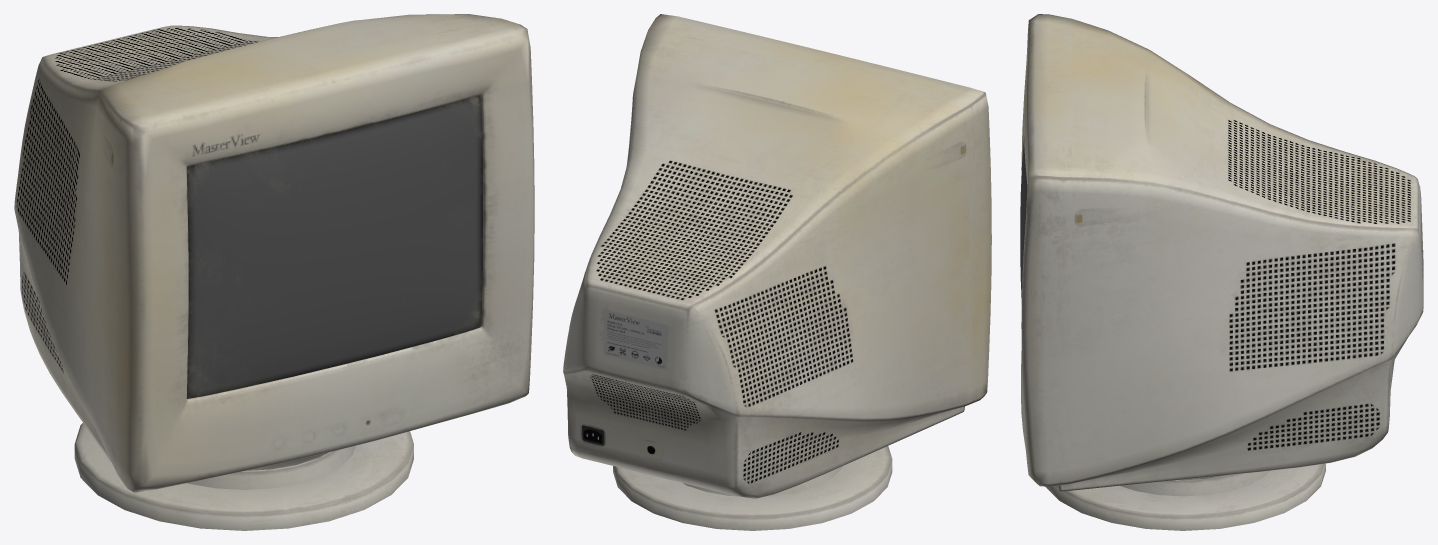
The picture shows the model from 3 angles, left to right: view 1: azimuth 30°, elevation 25°; view 2: azimuth 150°, elevation 25°; view 3: azimuth 270°, elevation 25°; orthographic projection. The views are drawn at different scales.
Parts seen in each view (by area): view 1: CRT_Monitor; view 2: CRT_Monitor; view 3: CRT_Monitor.
Boxes of the visible parts, x1,y1,x2,y2 form: CRT_Monitor: (14, 14, 534, 530); CRT_Monitor: (563, 14, 991, 530); CRT_Monitor: (1020, 14, 1423, 530).
Size of the model in its own units: 0.4059 by 0.433 by 0.4201.
2 materials, 2 textured.
